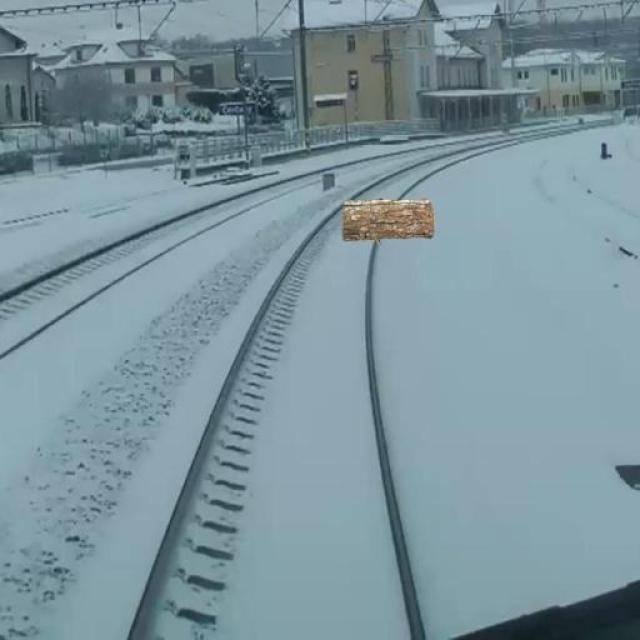Branches: (332, 193, 441, 246)
